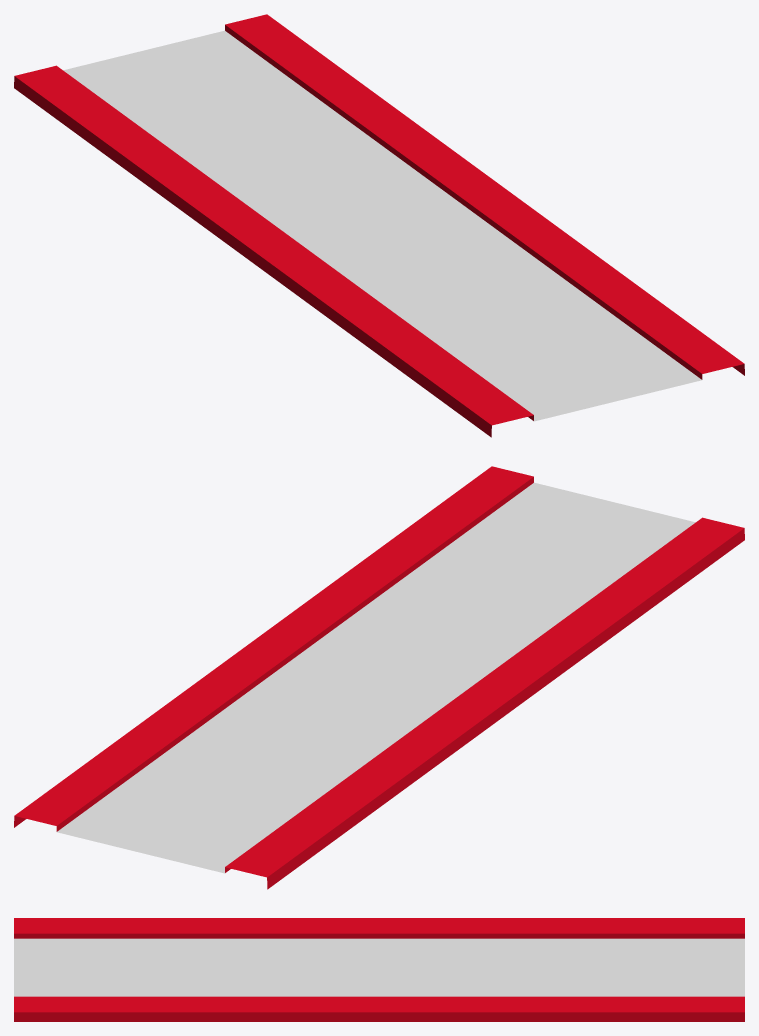
File: road_long.glb
3 renders of one model, top to bottom at view 1: azimuth 30°, elevation 25°; view 2: azimuth 150°, elevation 25°; view 3: azimuth 270°, elevation 25°, orthographic. The views are drawn at different scales.
Visible parts, largest first — view 1: road_long; view 2: road_long; view 3: road_long.
Part boxes in pixels (x1,y1,x2,y2): road_long: (14, 14, 744, 437); road_long: (14, 466, 744, 889); road_long: (14, 918, 744, 1021).
Bounding box in the file's own units: 2.45 × 0.114 × 8.
